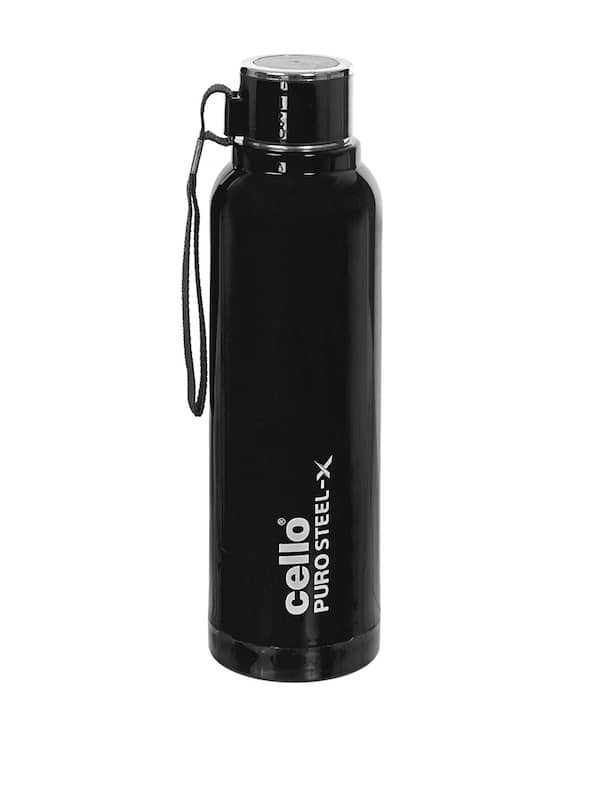bottle_cap: (150, 48, 442, 165)
water_bottle: (162, 29, 418, 700)
